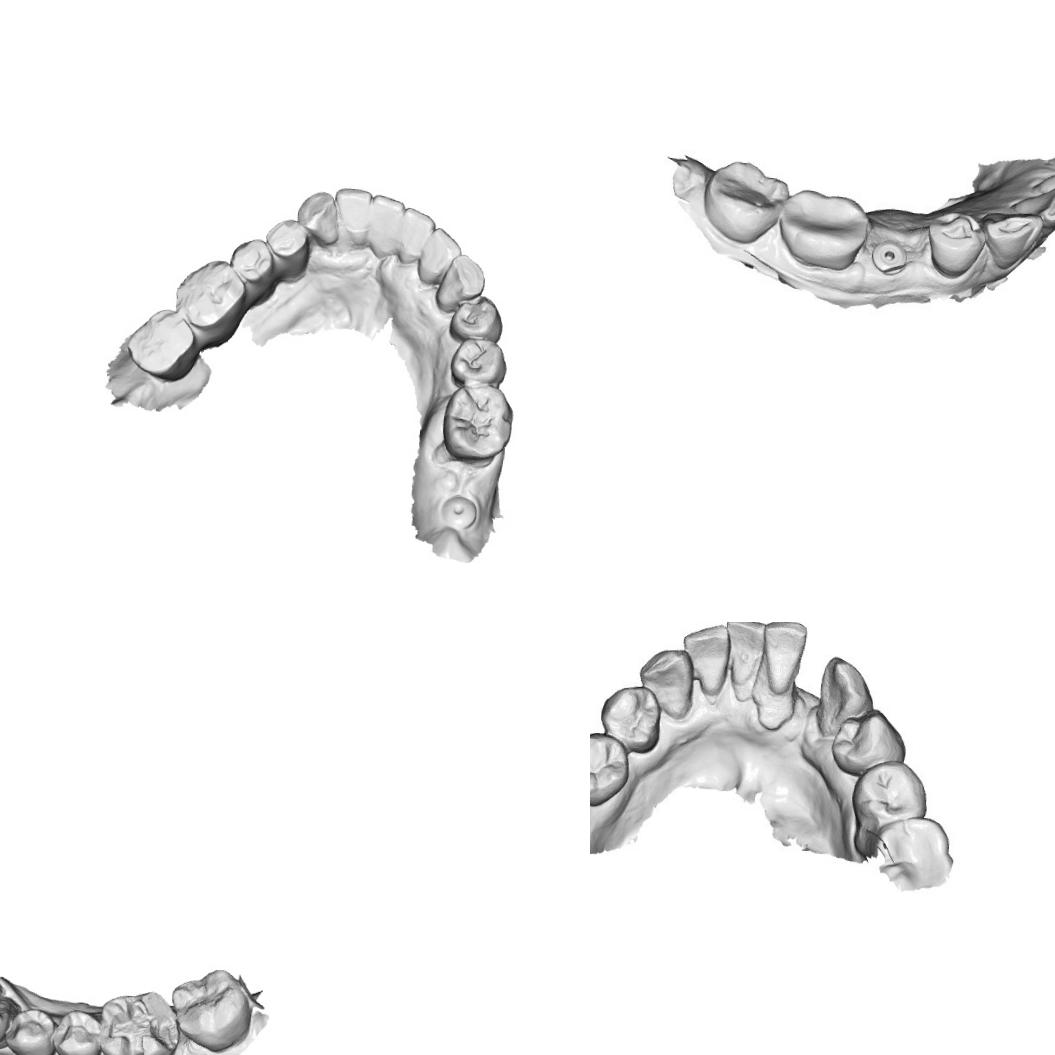canine: (810, 651, 876, 740), (635, 645, 700, 723), (432, 250, 486, 315), (294, 188, 340, 245)
implant: (866, 231, 912, 277)
incisor: (984, 202, 1041, 274), (684, 626, 735, 698), (761, 622, 807, 697), (414, 224, 464, 287), (362, 192, 406, 262), (726, 622, 767, 693), (395, 206, 438, 268), (332, 184, 373, 249)
inlay: (105, 996, 181, 1055)
molar: (695, 151, 792, 250), (165, 963, 255, 1055), (778, 187, 866, 267), (169, 255, 249, 340), (122, 303, 203, 384), (439, 381, 516, 463)
premolar: (842, 756, 934, 870), (829, 704, 922, 782), (596, 682, 668, 756), (924, 206, 988, 286), (590, 727, 637, 809), (446, 335, 509, 389), (226, 235, 280, 297), (262, 216, 312, 282), (445, 291, 505, 345), (2, 1005, 60, 1055), (49, 1006, 104, 1055)
